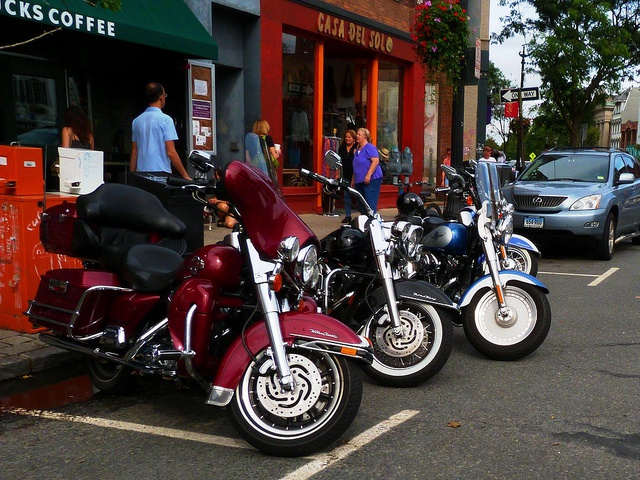non-vehicle: (25, 138, 376, 453), (302, 144, 462, 379), (395, 160, 559, 360), (422, 163, 472, 211)
